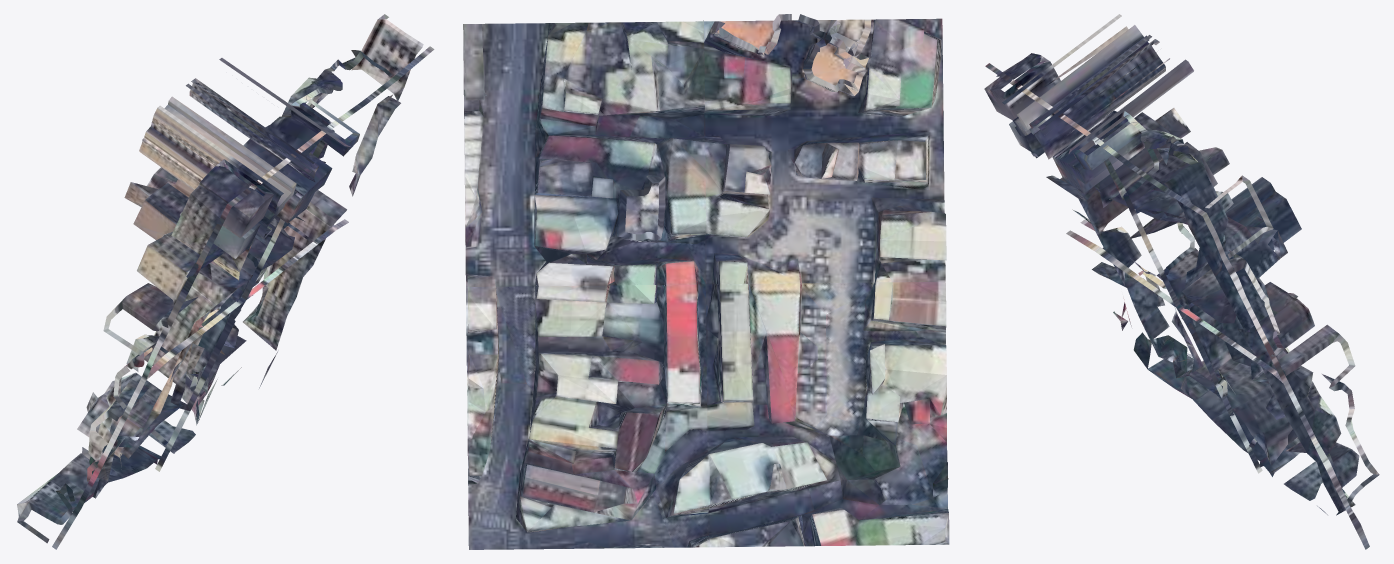
3 renders of one model, left to right at view 1: azimuth 30°, elevation 25°; view 2: azimuth 150°, elevation 25°; view 3: azimuth 270°, elevation 25°, orthographic. The views are drawn at different scales.
Size of the model in its own units: 161 by 158 by 132.
2 materials, 2 textured.
